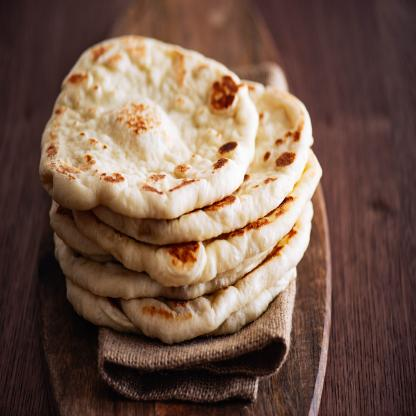naan: (38, 35, 260, 216), (93, 78, 314, 244), (71, 146, 322, 288), (120, 200, 312, 338), (65, 266, 296, 335)
